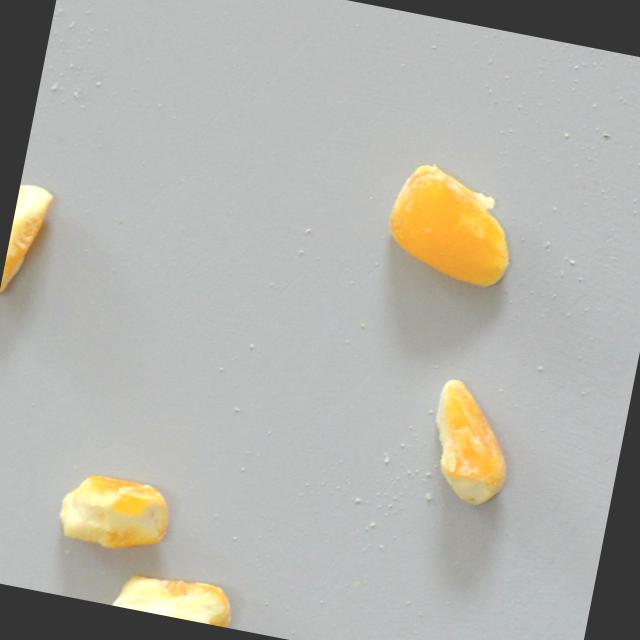dañado: (370, 153, 533, 302), (49, 464, 179, 562), (107, 562, 243, 629), (0, 174, 64, 308)
punto_negro: (416, 371, 526, 514)
